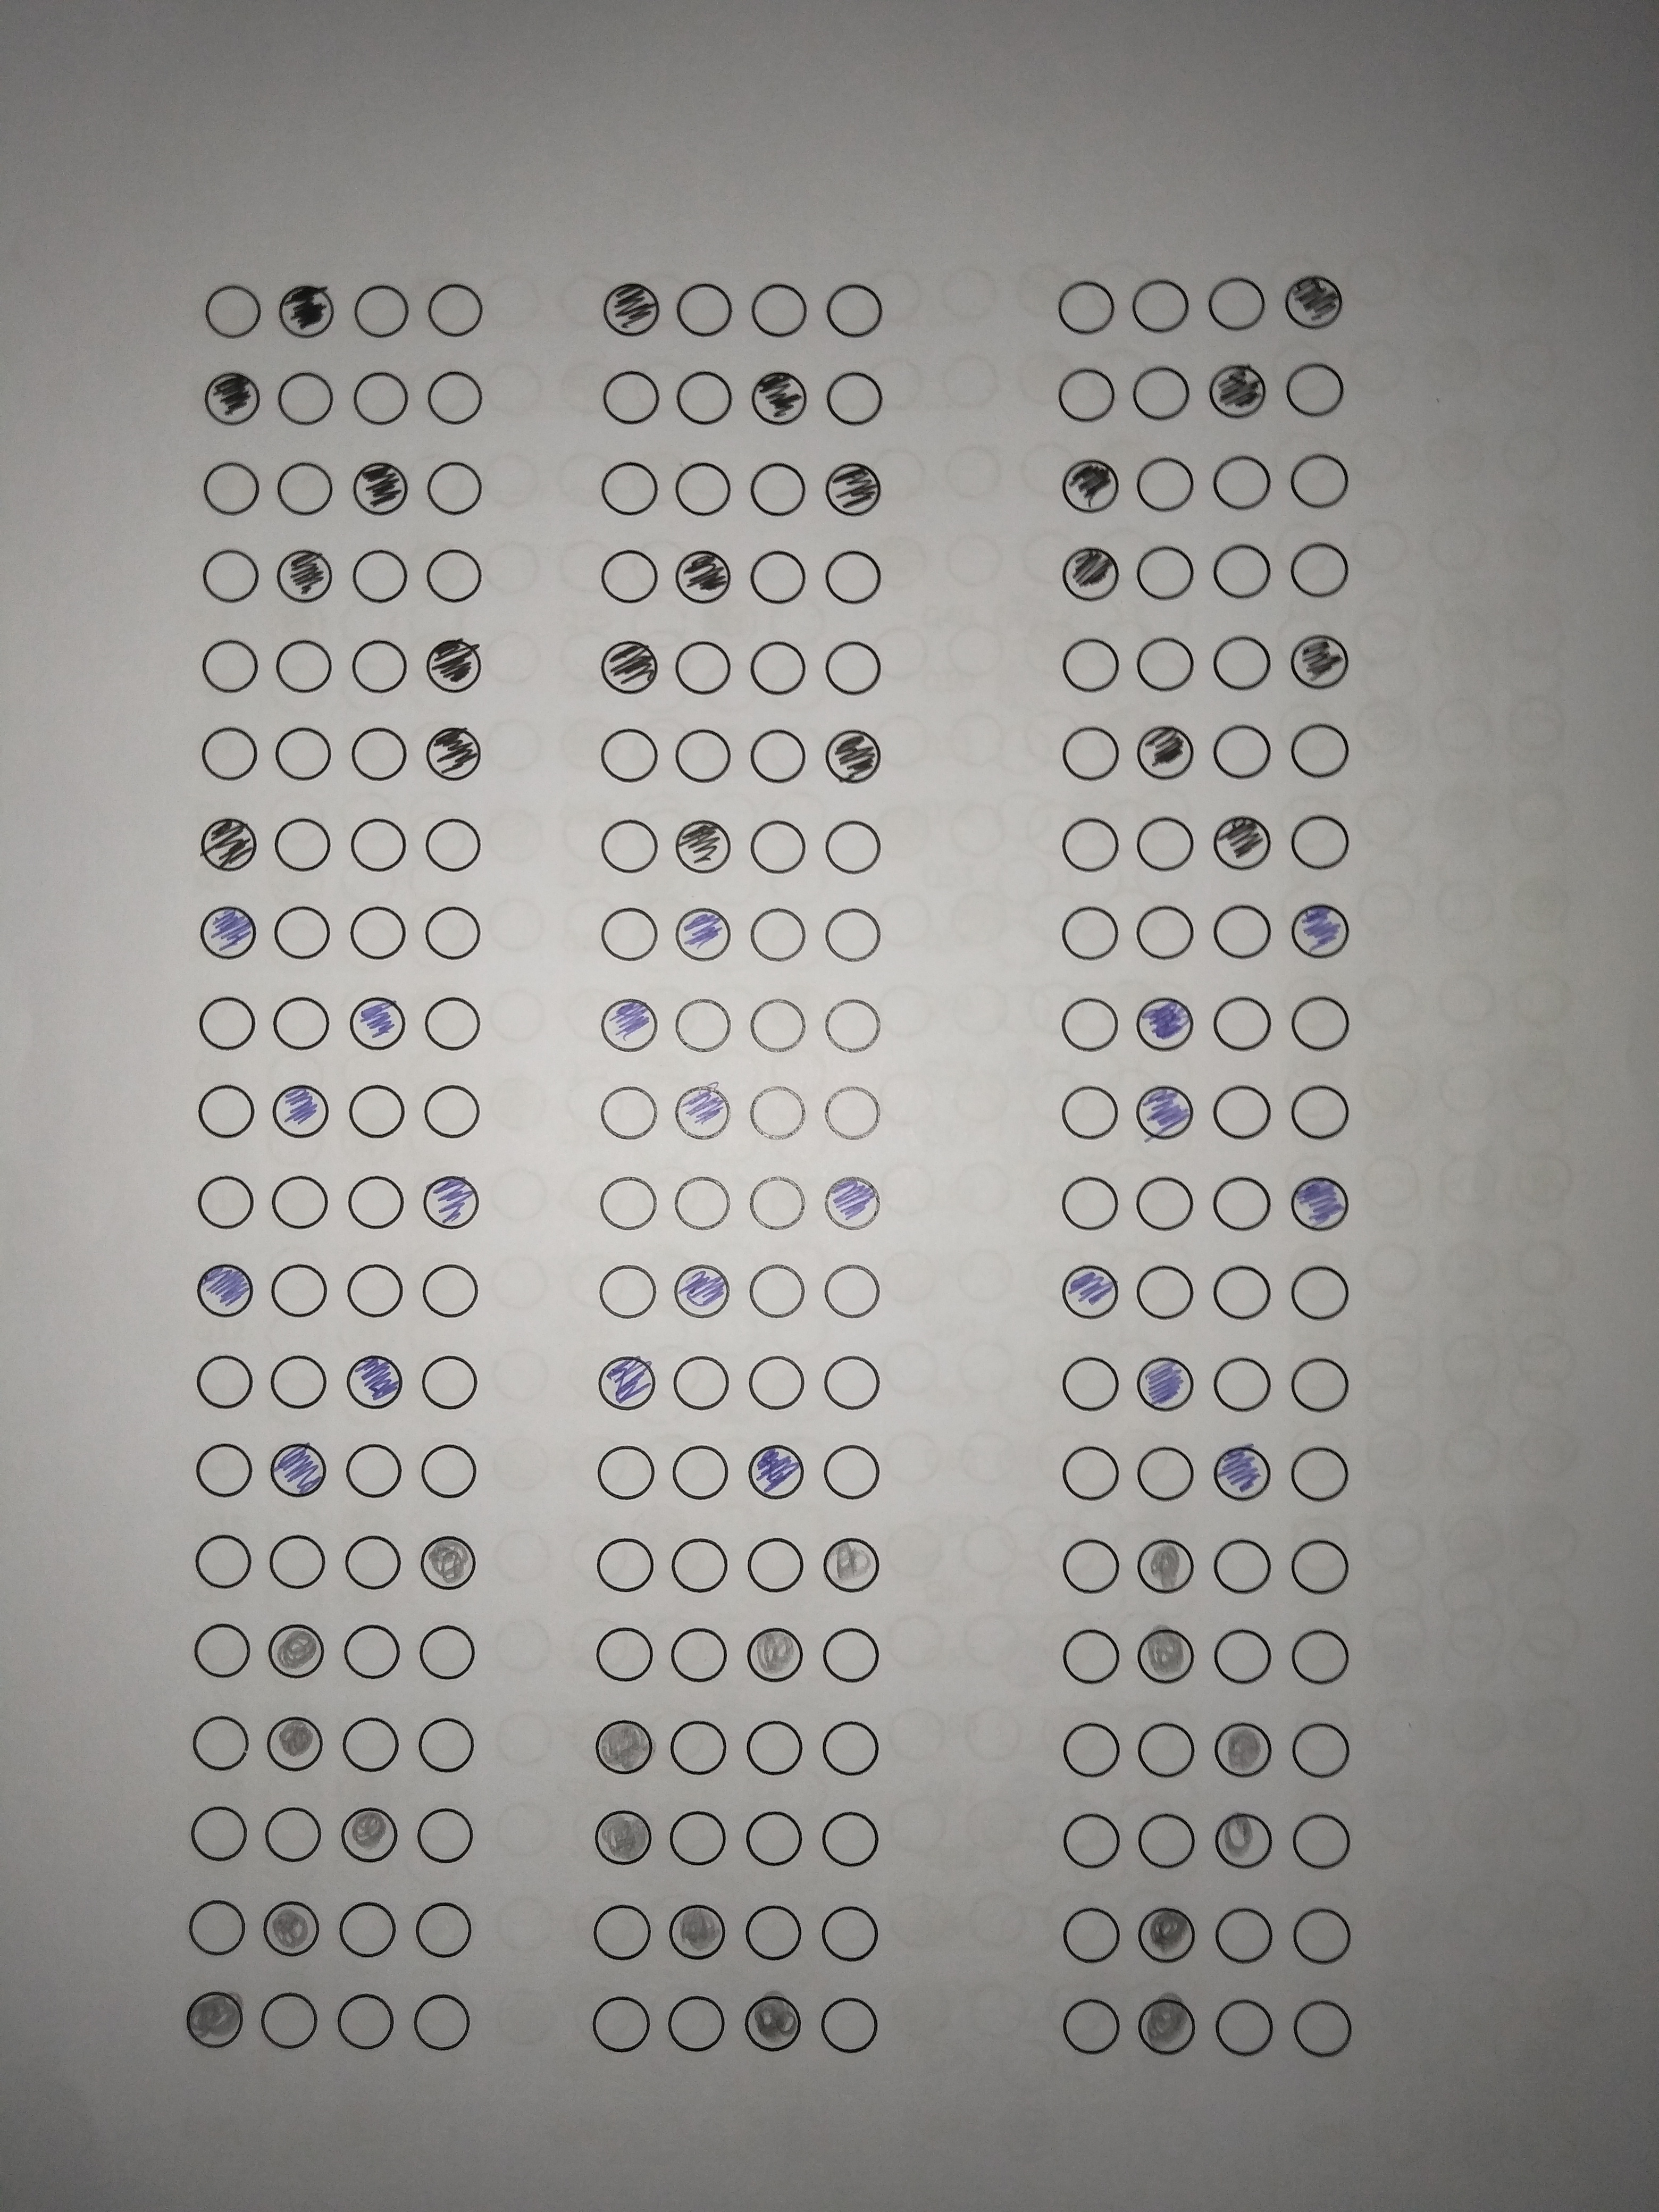not-c: (185, 1799, 253, 1865), (1209, 1994, 1277, 2060), (816, 1994, 884, 2060), (1060, 1902, 1126, 1968), (1290, 1717, 1356, 1784), (1133, 1716, 1199, 1782), (1286, 1622, 1352, 1688), (1208, 1623, 1274, 1689), (1058, 1716, 1124, 1782), (1209, 1531, 1276, 1597), (1288, 1439, 1354, 1505), (1056, 1439, 1122, 1505), (1284, 1350, 1351, 1416), (1208, 1350, 1274, 1416), (1058, 1350, 1124, 1416), (331, 1987, 397, 2054), (333, 1897, 399, 1963), (183, 1895, 249, 1961), (258, 1801, 324, 1867), (335, 1710, 401, 1777), (186, 1707, 253, 1773), (188, 1615, 254, 1681), (340, 1616, 406, 1683), (265, 1529, 331, 1595), (338, 1529, 404, 1595), (418, 1439, 484, 1505), (338, 1439, 404, 1505), (188, 1435, 254, 1501), (265, 1256, 331, 1322), (342, 1256, 408, 1322), (415, 1258, 481, 1324), (1058, 1993, 1124, 2059), (1288, 1994, 1354, 2060), (1288, 1902, 1354, 1968), (739, 1900, 805, 1966), (664, 1989, 730, 2055), (667, 1622, 734, 1688), (666, 1714, 732, 1780), (742, 1712, 809, 1778), (741, 1806, 807, 1872), (666, 1804, 732, 1871), (817, 1348, 884, 1414), (742, 1350, 809, 1416), (669, 1350, 735, 1416), (819, 1258, 885, 1324), (742, 1256, 809, 1322), (594, 1258, 660, 1324), (744, 1170, 810, 1237), (666, 1531, 732, 1597), (1286, 1810, 1354, 1874), (1060, 1810, 1127, 1874), (816, 1622, 884, 1686), (1058, 813, 1124, 878), (267, 1170, 333, 1235), (418, 1078, 484, 1143), (420, 989, 486, 1054), (270, 991, 336, 1055), (268, 900, 335, 965), (420, 813, 486, 878), (193, 721, 260, 786), (821, 545, 887, 610), (744, 547, 810, 611), (746, 813, 812, 878), (1286, 989, 1352, 1054), (594, 1078, 660, 1143), (591, 1533, 657, 1597), (746, 721, 812, 786), (667, 721, 734, 786), (667, 1439, 734, 1503), (669, 1169, 735, 1233), (594, 1172, 660, 1237), (1211, 1904, 1277, 1968), (1133, 1808, 1199, 1872), (1060, 1627, 1126, 1691), (1284, 1533, 1351, 1597), (1056, 1533, 1122, 1597), (1131, 1440, 1197, 1505), (1286, 1259, 1352, 1324), (1209, 1259, 1276, 1324), (1131, 1258, 1197, 1322), (410, 1989, 476, 2054), (258, 1987, 324, 2052), (408, 1898, 474, 1963), (411, 1804, 477, 1869), (413, 1714, 479, 1778), (413, 1618, 479, 1683), (190, 1529, 256, 1594), (190, 1348, 256, 1413), (265, 1348, 331, 1413), (413, 1352, 479, 1416), (817, 1902, 884, 1966), (587, 1993, 653, 2057), (587, 1902, 653, 1966), (817, 1440, 884, 1505), (592, 1620, 659, 1684), (817, 1716, 884, 1780), (817, 1808, 884, 1872), (739, 1531, 805, 1595), (592, 1437, 659, 1501), (342, 1170, 406, 1235), (821, 636, 885, 700), (347, 812, 411, 876), (272, 721, 336, 786), (596, 545, 660, 610), (821, 366, 885, 430), (819, 993, 884, 1057), (667, 995, 732, 1059), (1211, 991, 1276, 1055), (1058, 991, 1122, 1055), (1060, 900, 1124, 965), (594, 721, 659, 786), (1131, 810, 1197, 873), (1288, 812, 1354, 874), (195, 1170, 261, 1233), (345, 1080, 411, 1143), (420, 902, 486, 965), (345, 900, 411, 963), (268, 815, 335, 878), (345, 723, 411, 786), (748, 634, 814, 697), (195, 634, 261, 697), (819, 902, 885, 965), (596, 900, 662, 963), (1208, 1174, 1274, 1237), (1131, 1172, 1197, 1235), (1056, 1172, 1122, 1235), (1209, 900, 1276, 963), (821, 1078, 887, 1141), (746, 1082, 812, 1144), (596, 813, 660, 876), (195, 1082, 260, 1144), (195, 991, 260, 1054), (674, 636, 739, 698), (272, 636, 336, 698), (347, 636, 411, 698), (744, 458, 809, 521), (671, 456, 735, 519), (599, 456, 664, 519), (598, 366, 662, 428), (821, 813, 885, 876), (744, 902, 809, 965), (742, 991, 807, 1054), (1058, 1082, 1122, 1144), (1286, 1082, 1351, 1144), (1211, 1082, 1276, 1144), (1133, 902, 1197, 965), (671, 279, 734, 341), (274, 458, 336, 521), (423, 366, 486, 428), (349, 368, 411, 430), (1288, 719, 1351, 782), (1209, 629, 1272, 691), (1211, 540, 1274, 603), (1288, 451, 1351, 514), (1058, 364, 1121, 427), (823, 279, 885, 340), (746, 279, 809, 340), (673, 368, 735, 428), (349, 547, 411, 608), (199, 545, 261, 606), (199, 458, 261, 519), (423, 458, 486, 519), (272, 369, 335, 430), (422, 280, 484, 341), (349, 280, 411, 341), (1211, 721, 1274, 782), (1061, 725, 1122, 787), (1134, 632, 1197, 693), (1288, 538, 1349, 601), (1134, 542, 1195, 604), (1134, 455, 1197, 516), (1284, 359, 1347, 420), (1054, 279, 1117, 340), (1127, 275, 1190, 336), (1206, 272, 1269, 333), (422, 543, 483, 604), (202, 282, 263, 343), (1061, 636, 1122, 697), (1211, 451, 1272, 512), (1131, 364, 1192, 425)
taken-c: (1136, 1996, 1199, 2059), (263, 1714, 326, 1777), (338, 1804, 401, 1867), (592, 1804, 653, 1867), (265, 1620, 326, 1683), (1134, 1905, 1197, 1966), (181, 1987, 244, 2048), (741, 1993, 803, 2054), (594, 1717, 655, 1778), (1211, 1721, 1272, 1782), (1213, 1811, 1274, 1872), (261, 1898, 322, 1959), (664, 1904, 725, 1965), (821, 462, 884, 521), (1279, 268, 1342, 327), (1060, 456, 1121, 516), (275, 282, 336, 341), (343, 1352, 406, 1409), (1134, 723, 1197, 780), (1209, 815, 1272, 873), (1134, 1083, 1197, 1141), (1060, 547, 1122, 604), (349, 462, 411, 519), (744, 1627, 805, 1684), (596, 1353, 657, 1411), (744, 1442, 805, 1500), (819, 1534, 880, 1592), (193, 1259, 254, 1317), (1288, 1177, 1349, 1235), (1060, 1264, 1121, 1322), (1133, 1357, 1194, 1414), (1211, 1446, 1272, 1503), (1133, 1536, 1194, 1594), (267, 1442, 328, 1500), (1133, 1629, 1194, 1686), (416, 1534, 477, 1592), (821, 728, 882, 786), (671, 820, 732, 878), (673, 906, 734, 963), (599, 996, 660, 1054), (673, 1083, 734, 1141), (671, 1263, 732, 1320), (423, 725, 484, 782), (1288, 634, 1349, 691), (821, 1177, 882, 1235), (1290, 902, 1351, 960), (1133, 996, 1194, 1054), (199, 813, 260, 871), (195, 906, 256, 963), (345, 996, 406, 1054), (420, 1172, 481, 1230), (270, 1083, 331, 1141), (673, 547, 734, 604), (598, 639, 659, 697), (748, 369, 809, 427), (599, 279, 660, 336), (422, 637, 483, 695), (274, 547, 335, 604), (200, 369, 261, 427), (1206, 361, 1267, 418), (1281, 270, 1342, 327)
